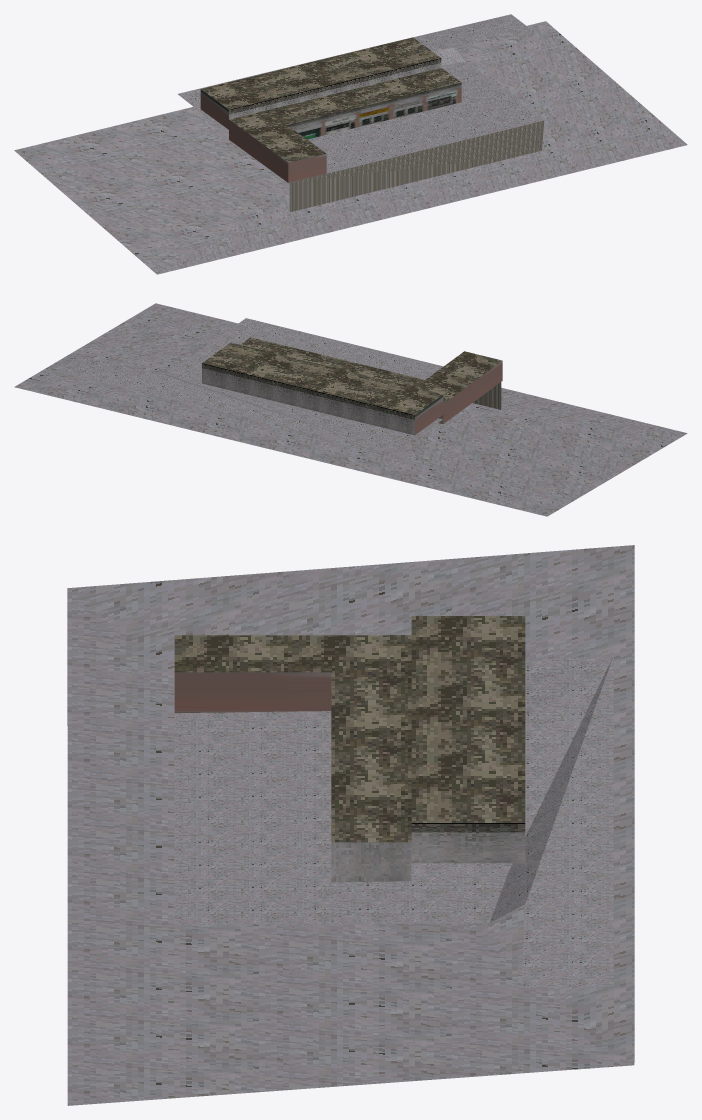
Rendered from lodblok08_lawn.obj.
3 renders of one model, top to bottom at view 1: azimuth 30°, elevation 25°; view 2: azimuth 150°, elevation 25°; view 3: azimuth 270°, elevation 25°, orthographic. The views are drawn at different scales.
Parts seen in each view (by area): view 1: LODBlok08_LAwN; view 2: LODBlok08_LAwN; view 3: LODBlok08_LAwN.
Boxes of the visible parts, box(x1,y1,x2,y2) form: LODBlok08_LAwN: box(14, 14, 687, 274); LODBlok08_LAwN: box(14, 303, 687, 516); LODBlok08_LAwN: box(67, 545, 634, 1105).
Size of the model in its own units: 115 by 13.18 by 53.19.
5 materials, 5 textured.
